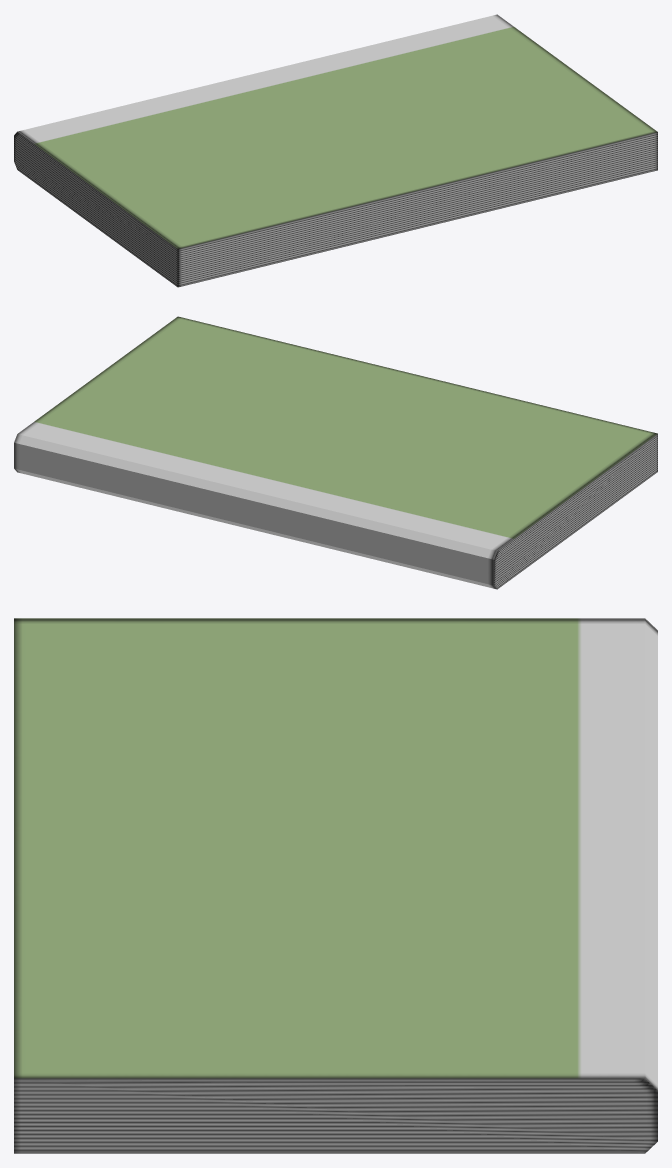
The model's file is book10.fbx.
3 views of the same model, one above another, from view 1: azimuth 30°, elevation 25°; view 2: azimuth 150°, elevation 25°; view 3: azimuth 270°, elevation 25° (orthographic). The views are drawn at different scales.
Visible parts, largest first — view 1: polySurface1124; view 2: polySurface1124; view 3: polySurface1124.
Part boxes in pixels (bbox=[...]): polySurface1124: bbox=[14, 14, 657, 287]; polySurface1124: bbox=[14, 316, 657, 589]; polySurface1124: bbox=[14, 618, 657, 1153].
Size of the model in its own units: 0.4212 by 0.0322 by 0.2491.
